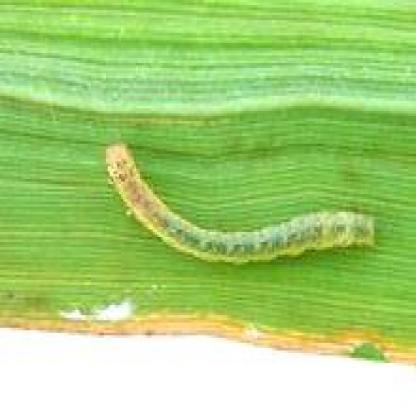leaf-folder: (98, 136, 377, 268)
